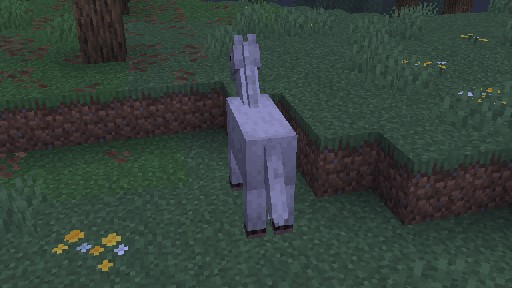horse: (225, 33, 297, 239)
